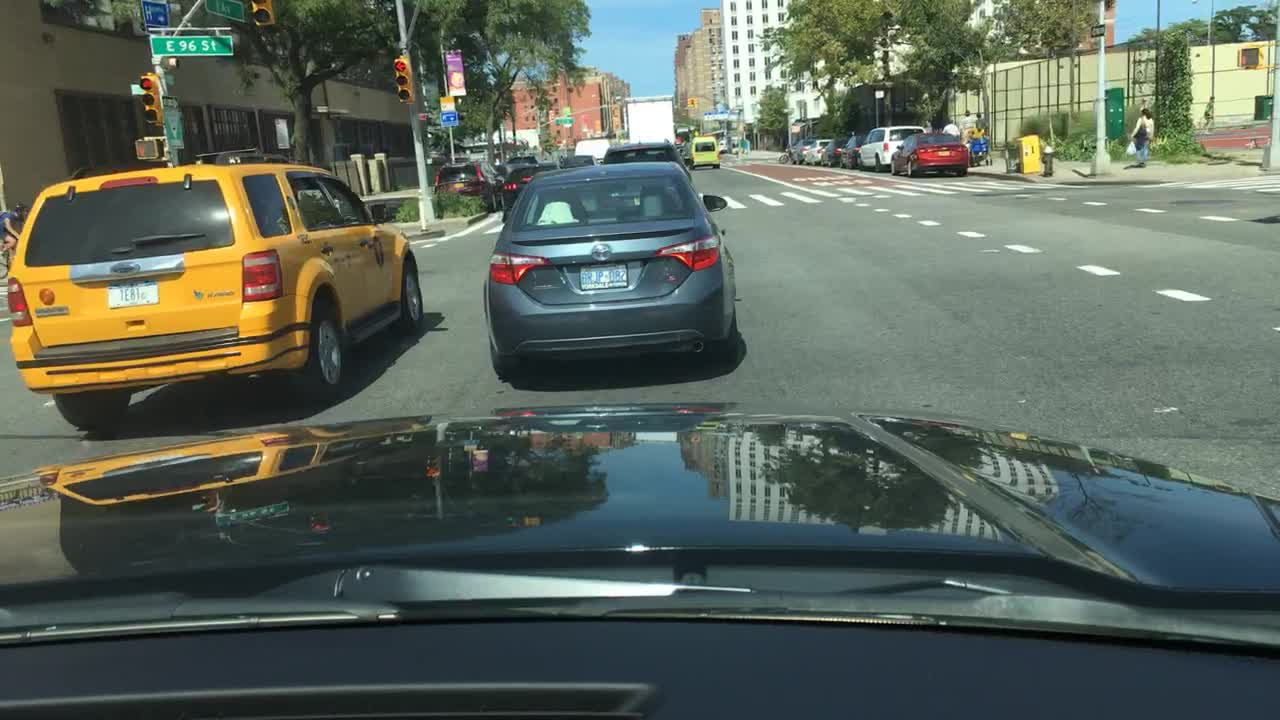bike: (0, 236, 27, 281), (774, 146, 801, 164)
car: (2, 163, 423, 430), (483, 163, 742, 384), (430, 160, 506, 215), (891, 135, 971, 181), (607, 141, 687, 178), (200, 146, 302, 175), (500, 163, 552, 218), (860, 124, 923, 169), (684, 135, 721, 169), (573, 138, 612, 164), (497, 150, 546, 169), (821, 138, 851, 166), (805, 140, 834, 166), (844, 134, 865, 167), (791, 138, 816, 163)
person: (1129, 104, 1157, 169), (960, 104, 973, 134), (940, 117, 960, 135), (977, 112, 988, 141)
rider: (0, 204, 31, 260)
traffic light: (137, 74, 163, 126), (392, 55, 411, 104), (134, 138, 160, 160), (251, 0, 275, 23), (1240, 46, 1264, 69), (685, 98, 696, 111)
traffic sign: (148, 35, 229, 55), (159, 95, 186, 147), (205, 0, 248, 22), (137, 2, 168, 29), (437, 97, 460, 126), (696, 114, 730, 124), (553, 117, 576, 126), (1086, 26, 1103, 37), (873, 89, 885, 100)
